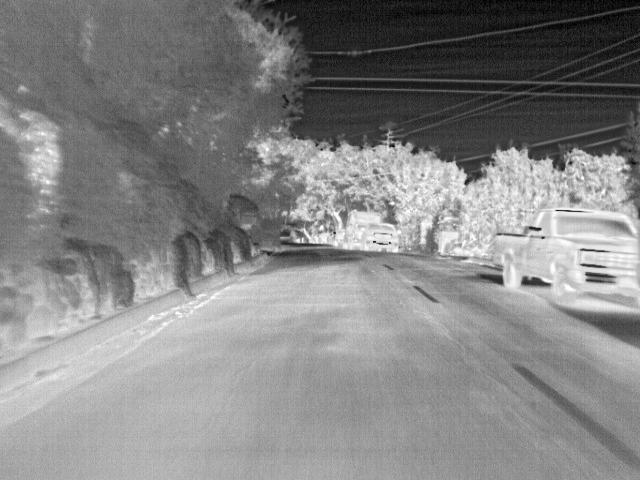car: (491, 206, 640, 308), (361, 222, 399, 252), (329, 230, 344, 244), (316, 232, 330, 246)
person: (345, 223, 356, 249)
